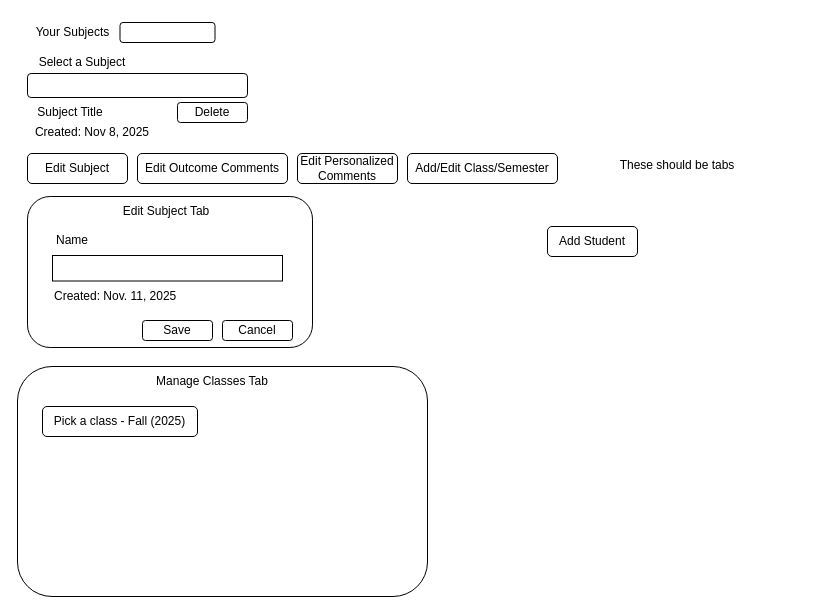
Image size: 815x614. Some labels were removed from this diagram. Here are the shapes that lost their labels. From the top down, the centre of each, then its label:
At (167,32): "Add Subject".
At (137,85): "Select Subject Drop-Down".
